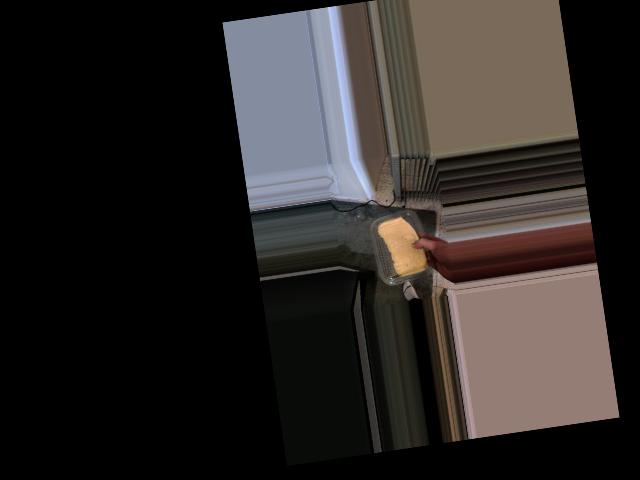cheese: (373, 208, 433, 286)
